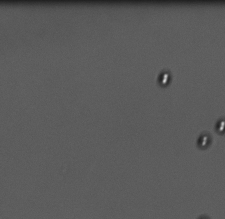Dead Cell: (196, 130, 212, 150)
Living Cell: (155, 69, 173, 87)
